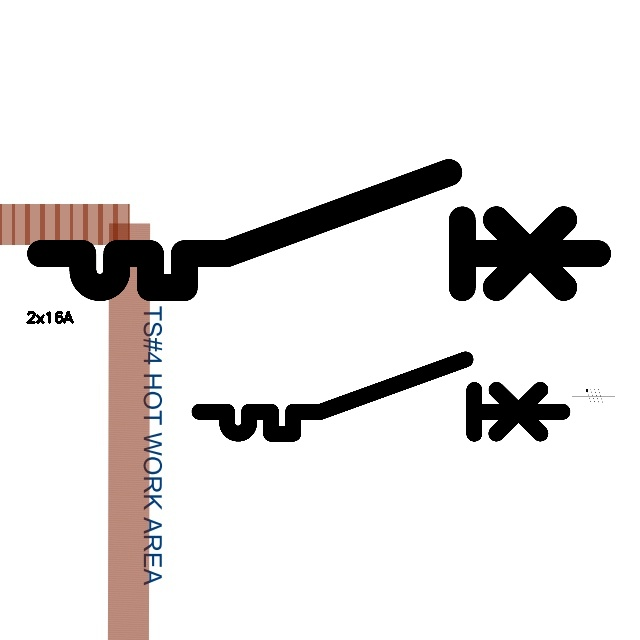interruptor_termomagnetico: (26, 158, 612, 302), (190, 350, 572, 443)
